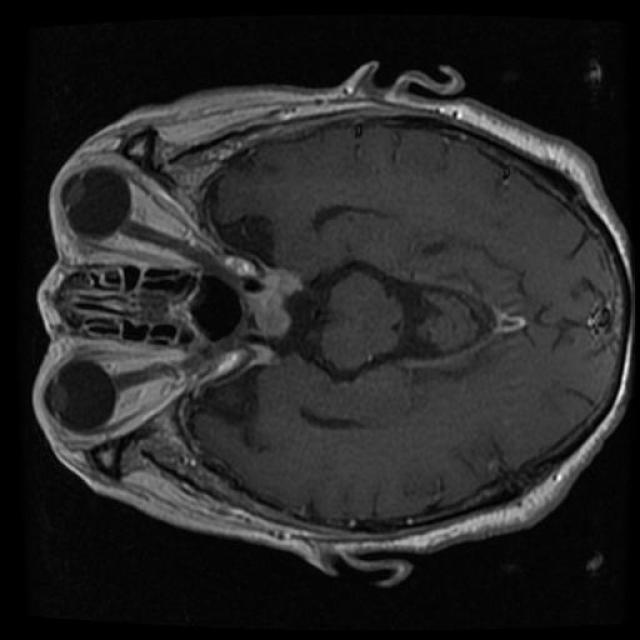Pituitary: (238, 262, 301, 364)
